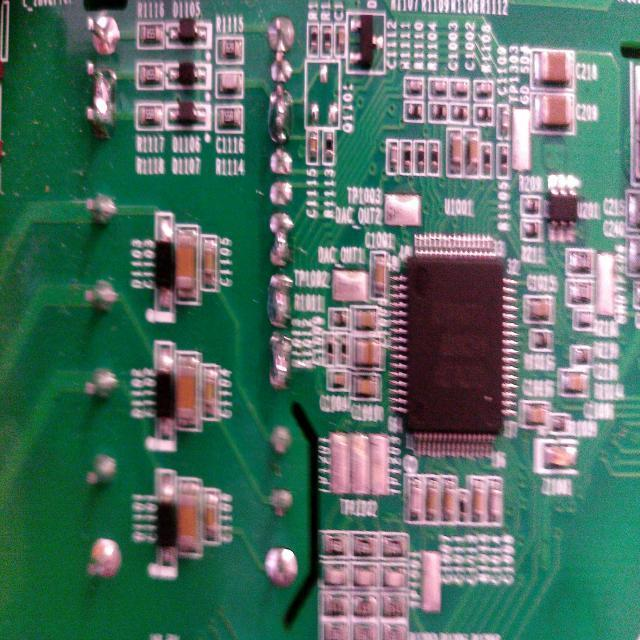Soldering shorted: (80, 58, 120, 142), (264, 270, 298, 328), (266, 330, 296, 393), (266, 81, 294, 148), (266, 208, 295, 272)
